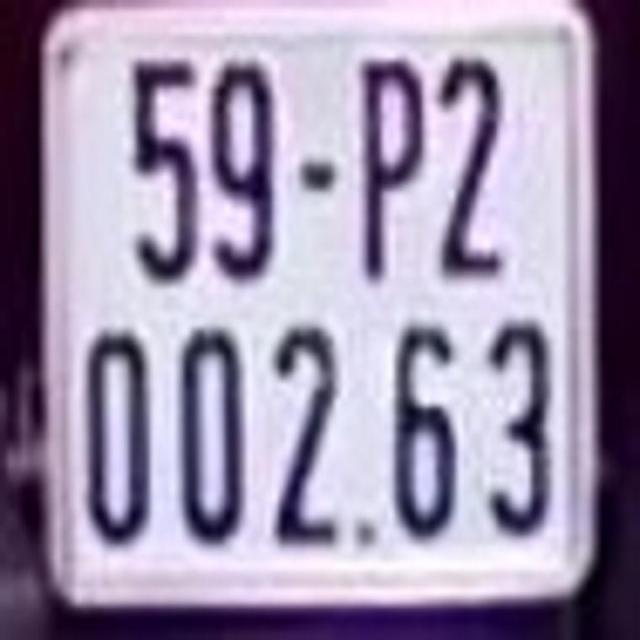0: (176, 328, 252, 546), (87, 330, 154, 541)
2: (434, 49, 508, 273), (274, 320, 338, 547)
3: (487, 314, 552, 543)
5: (126, 54, 197, 276)
6: (388, 315, 457, 543)
9: (212, 53, 280, 282)
P: (360, 53, 426, 282)
